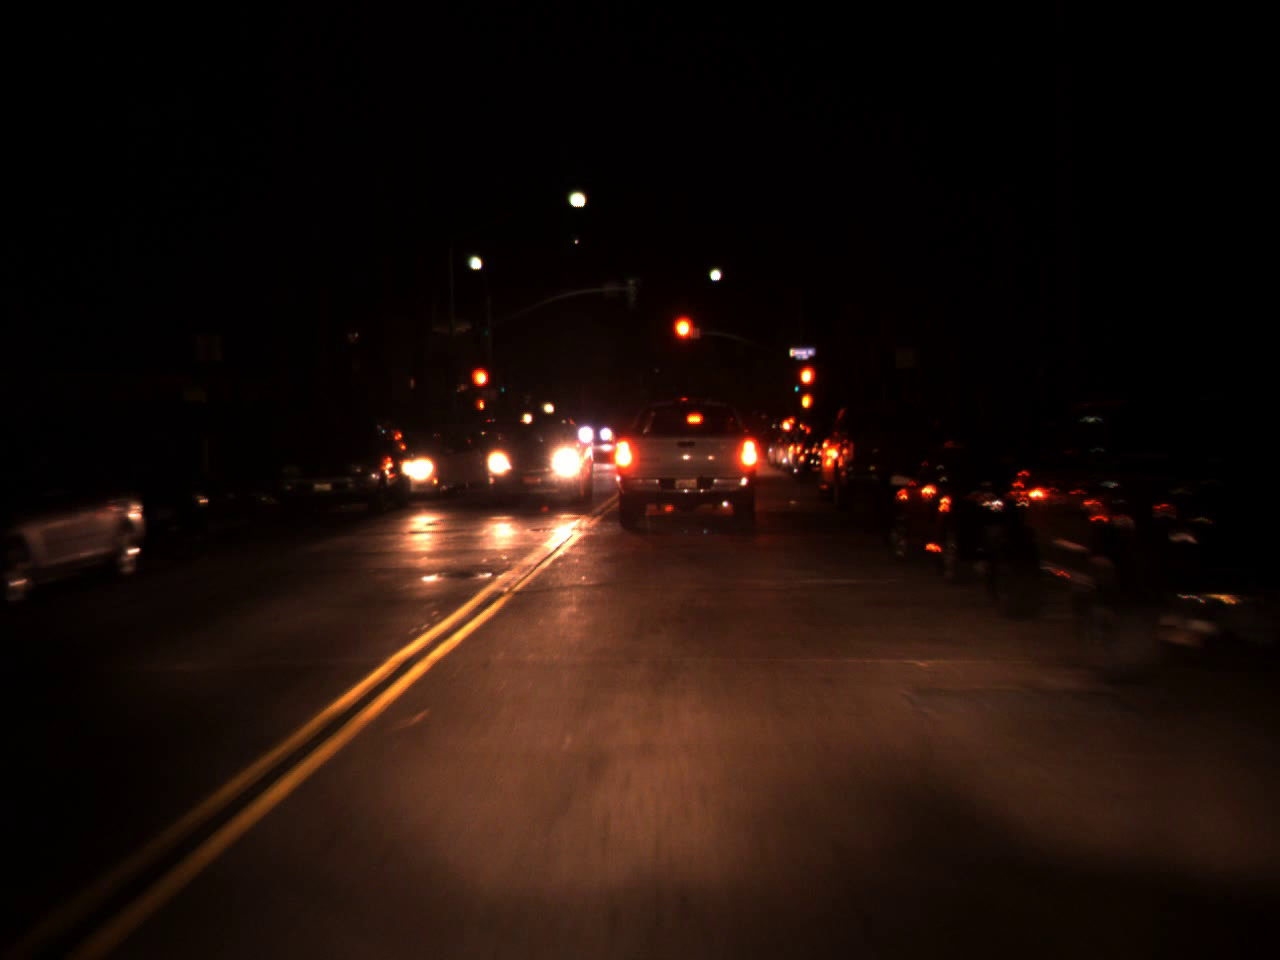stop: (670, 313, 697, 367), (469, 366, 491, 409), (796, 364, 817, 407)
